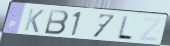1: (70, 11, 84, 37)
7: (92, 12, 117, 39)
B: (43, 8, 71, 36)
K: (23, 8, 46, 34)
L: (115, 15, 134, 41)
Z: (137, 17, 164, 43)
